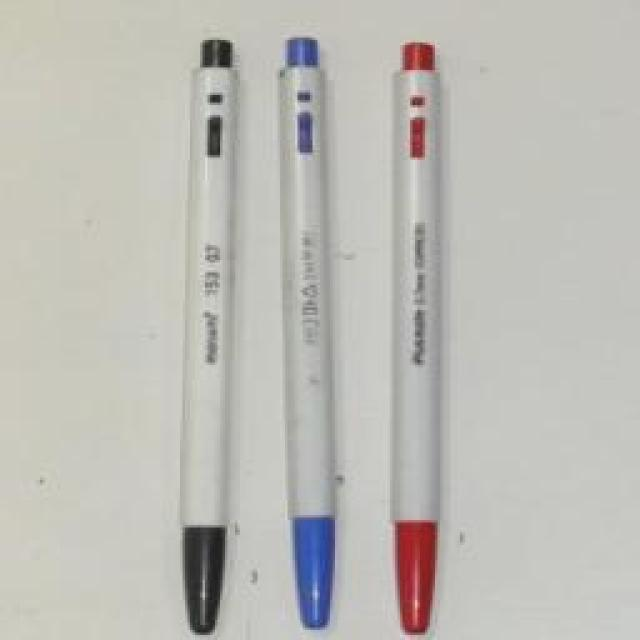pen: (180, 38, 245, 638)
